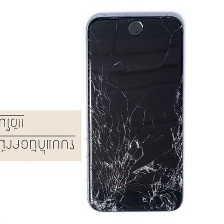phone: (82, 6, 189, 215)
